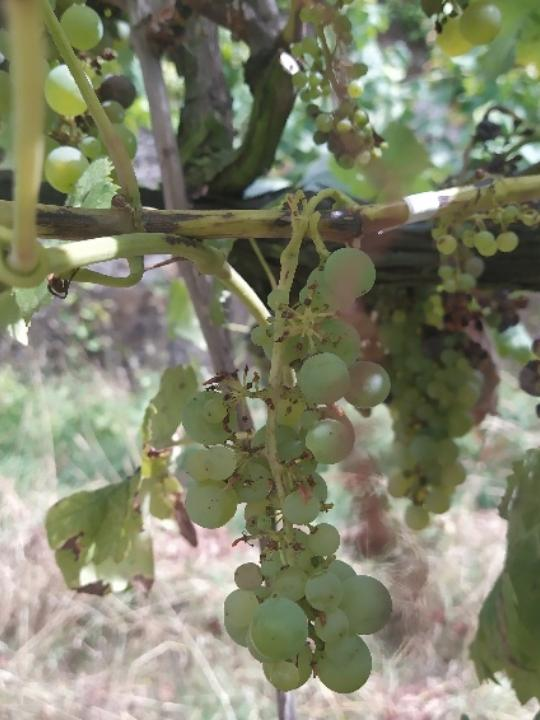grape: (172, 239, 396, 698)
